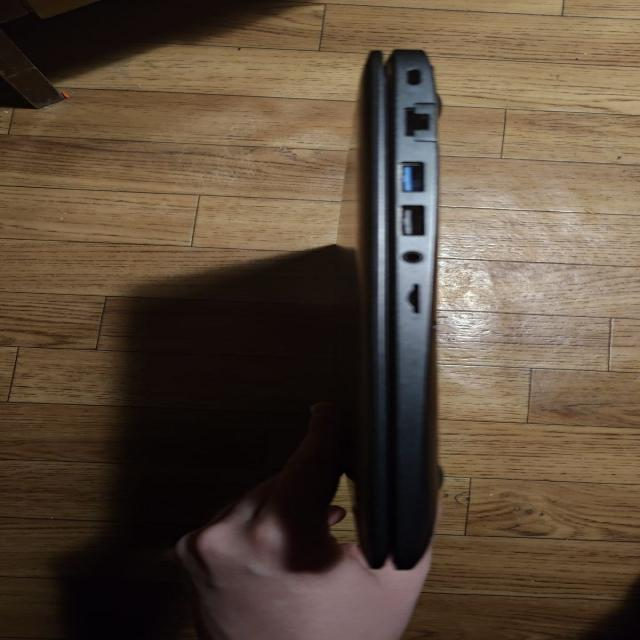lock: (394, 95, 447, 148)
